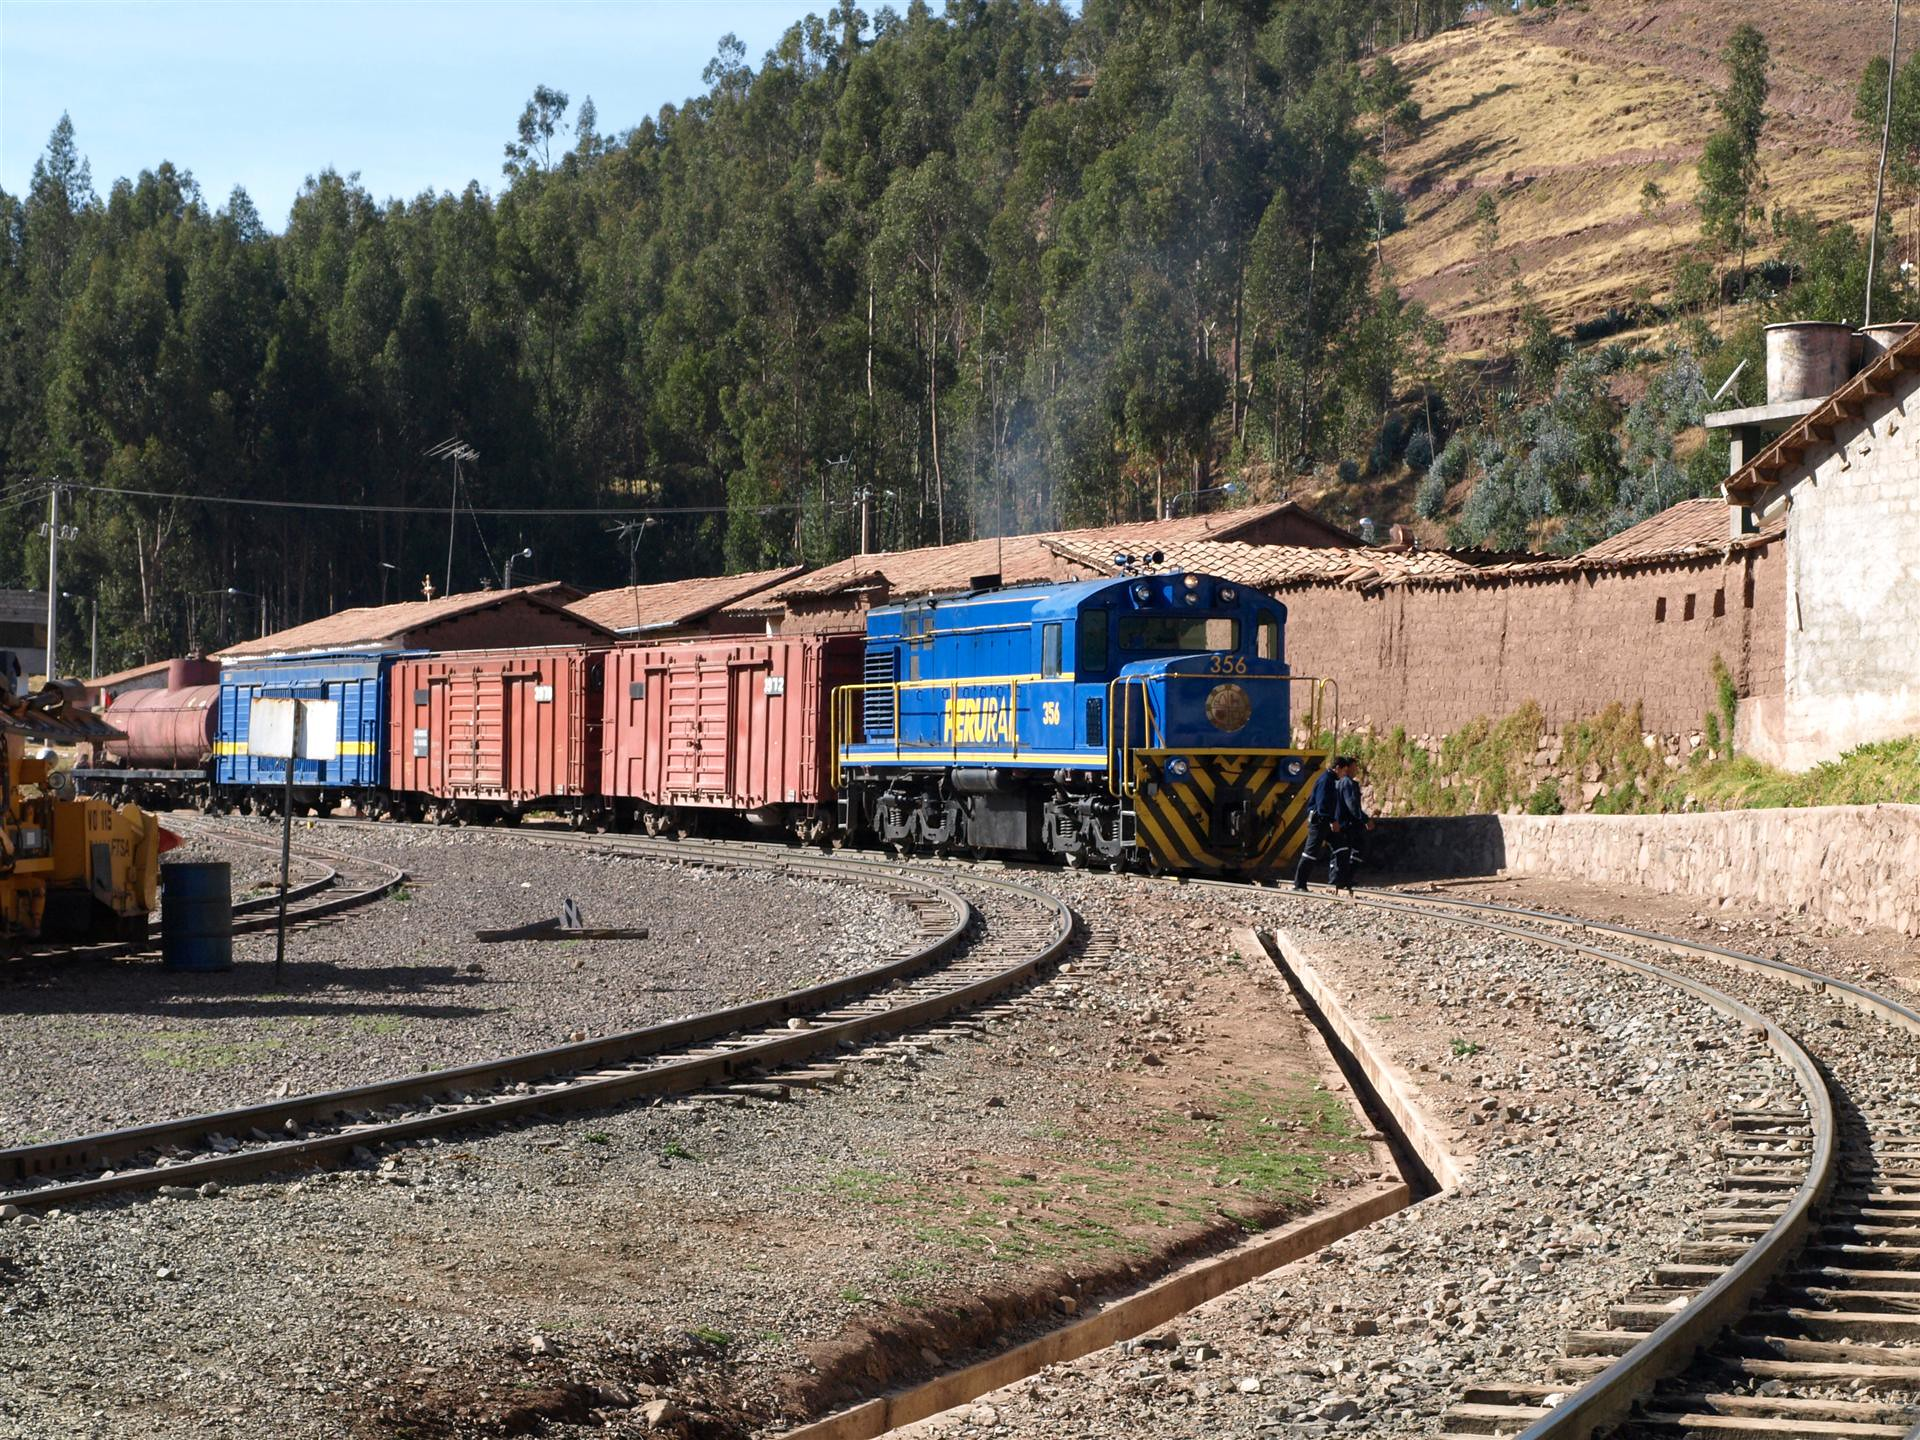train: (88, 570, 1364, 847), (118, 576, 1361, 820)
